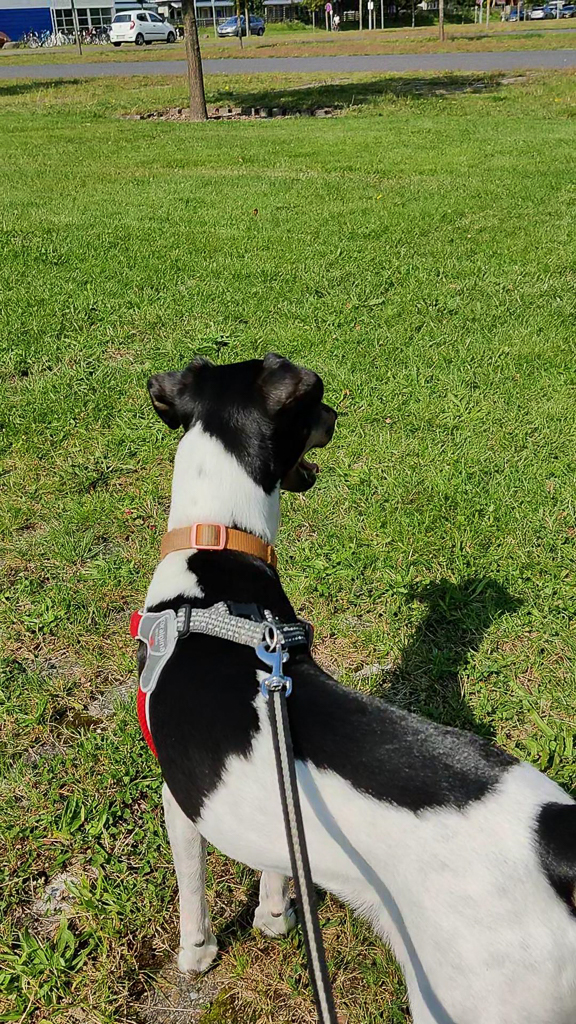Dog: (110, 349, 576, 1024)
